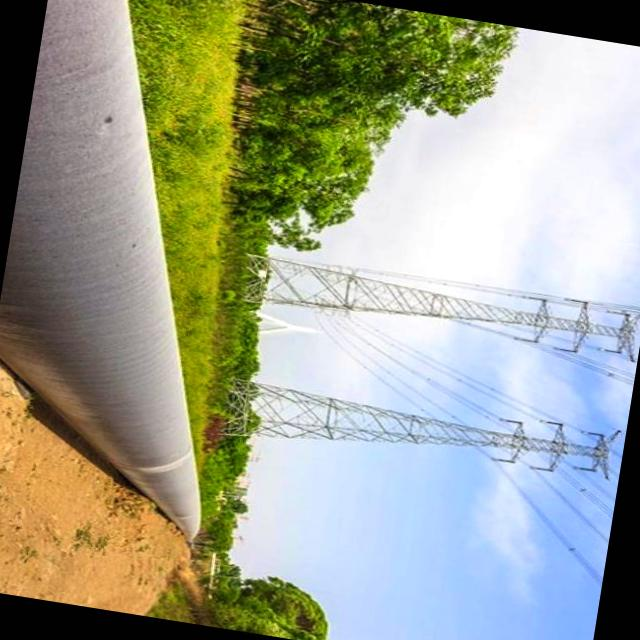gas: (0, 0, 199, 536)
